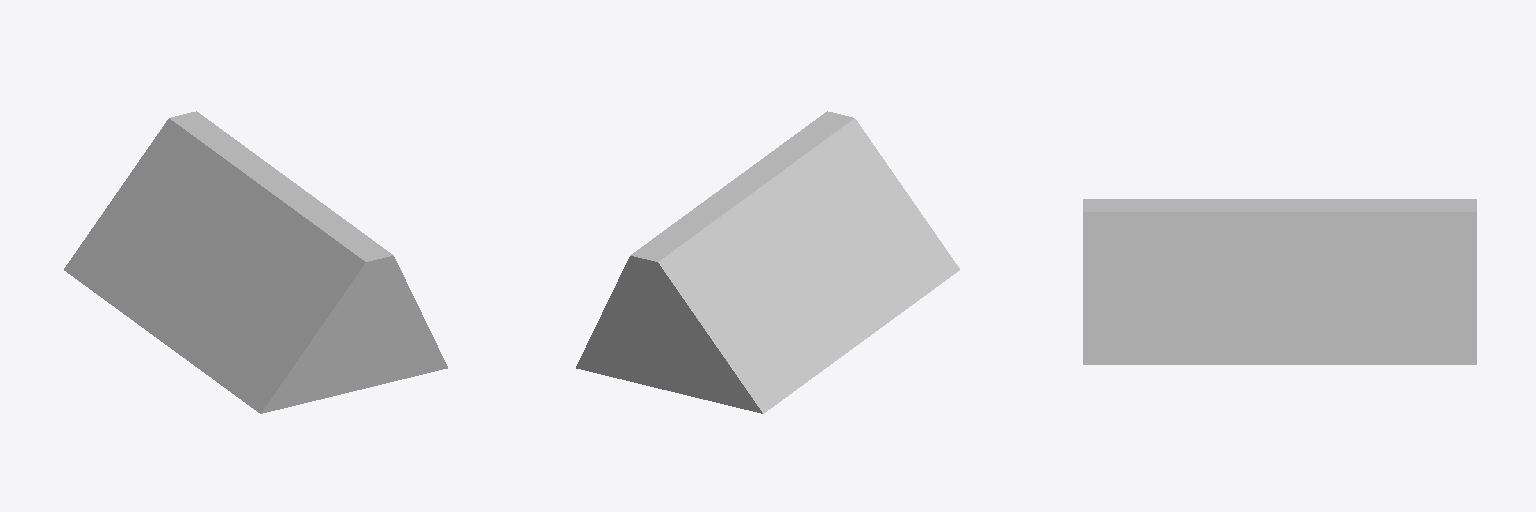
Rendered from testt91107.obj.
3 renders of one model, left to right at view 1: azimuth 30°, elevation 25°; view 2: azimuth 150°, elevation 25°; view 3: azimuth 270°, elevation 25°, orthographic.
Parts seen in each view (by area): view 1: Cube; view 2: Cube; view 3: Cube.
Part boxes in pixels (left/top/right/bottom): Cube: left=64, top=111, right=447, bottom=413; Cube: left=576, top=111, right=959, bottom=413; Cube: left=1083, top=199, right=1476, bottom=364.
Bounding box in the file's own units: 1.21 × 0.7781 × 2.2.